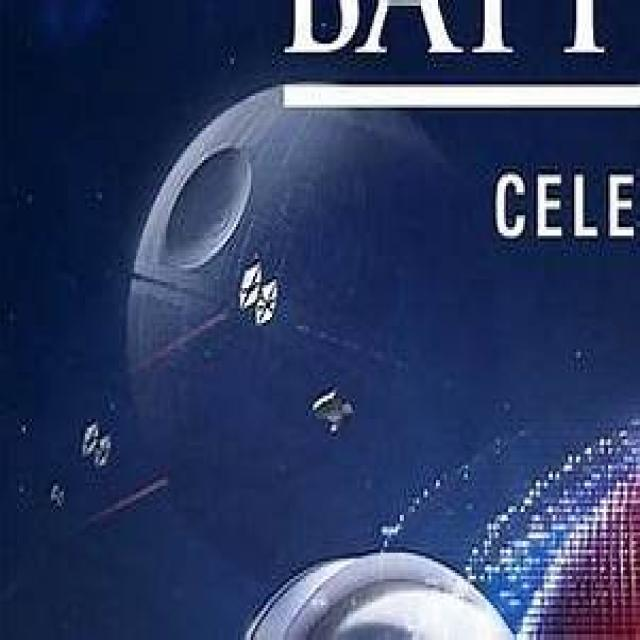deathStar: (131, 93, 509, 584)
